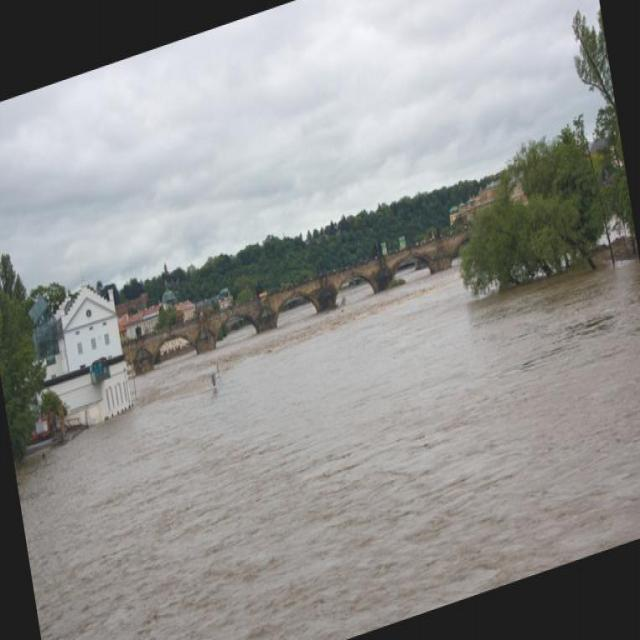flood: (2, 170, 639, 639)
